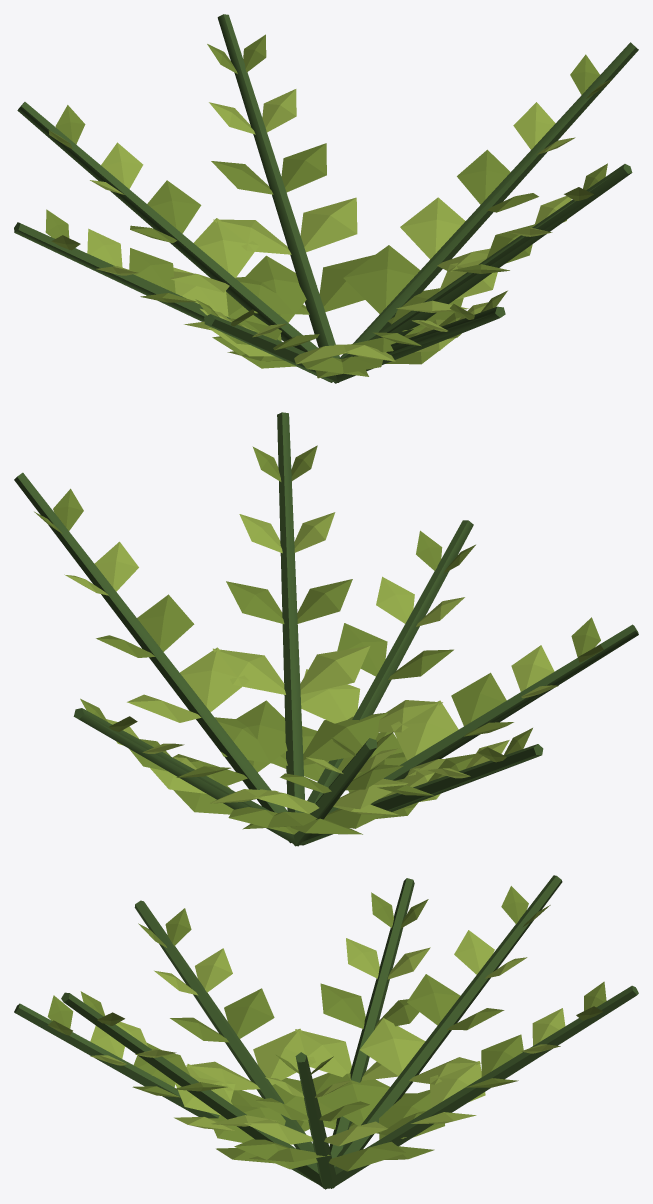
File: 91_woodland_fern.fbx
3 renders of one model, top to bottom at view 1: azimuth 30°, elevation 25°; view 2: azimuth 150°, elevation 25°; view 3: azimuth 270°, elevation 25°, orthographic. The views are drawn at different scales.
Visible parts, largest first — view 1: 91_woodland_fern; view 2: 91_woodland_fern; view 3: 91_woodland_fern.
Part boxes in pixels (x1,y1,x2,y2): 91_woodland_fern: (14, 14, 638, 383); 91_woodland_fern: (14, 412, 638, 846); 91_woodland_fern: (14, 875, 638, 1189).
Size of the model in its own units: 1.23 by 0.5835 by 1.24.
Materials: 1 (1 with a texture image).
